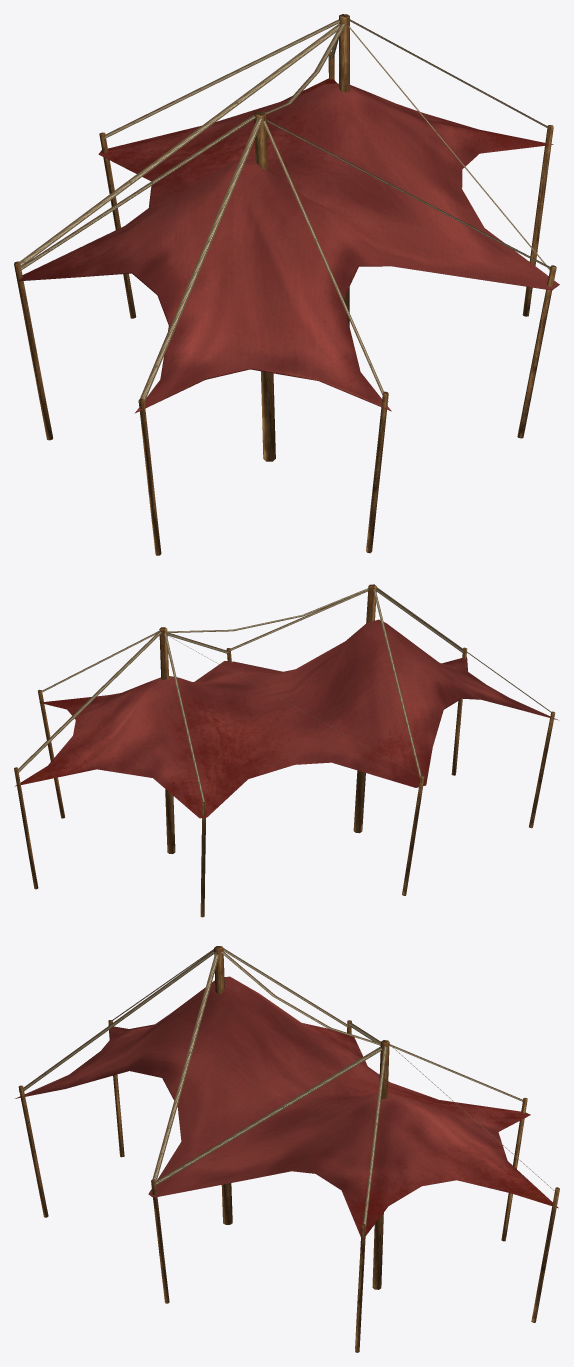
The model's file is tent_03.FBX.
3 views of the same model, one above another, from view 1: azimuth 30°, elevation 25°; view 2: azimuth 150°, elevation 25°; view 3: azimuth 270°, elevation 25° (orthographic). The views are drawn at different scales.
Visible parts, largest first — view 1: tent_03; view 2: tent_03; view 3: tent_03.
Part boxes in pixels (x1,y1,x2,y2): tent_03: (14,14,559,555); tent_03: (14,584,558,917); tent_03: (15,946,559,1352).
Size of the model in its own units: 138 by 80.41 by 146.
